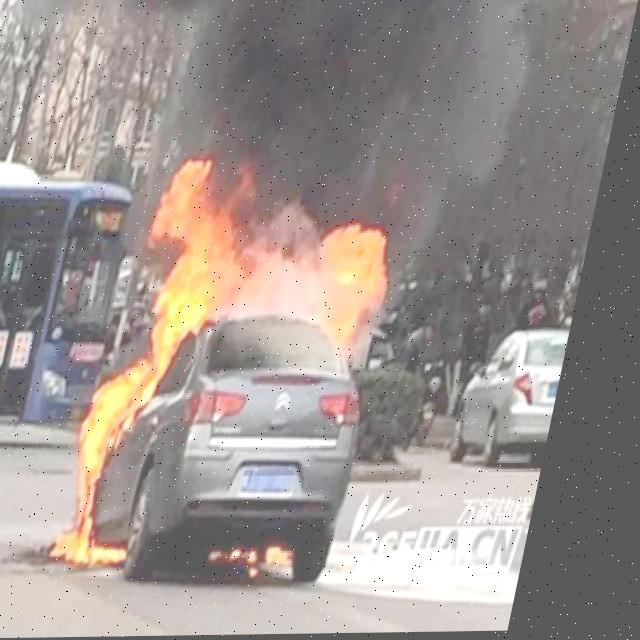Fire: (69, 142, 422, 590)
